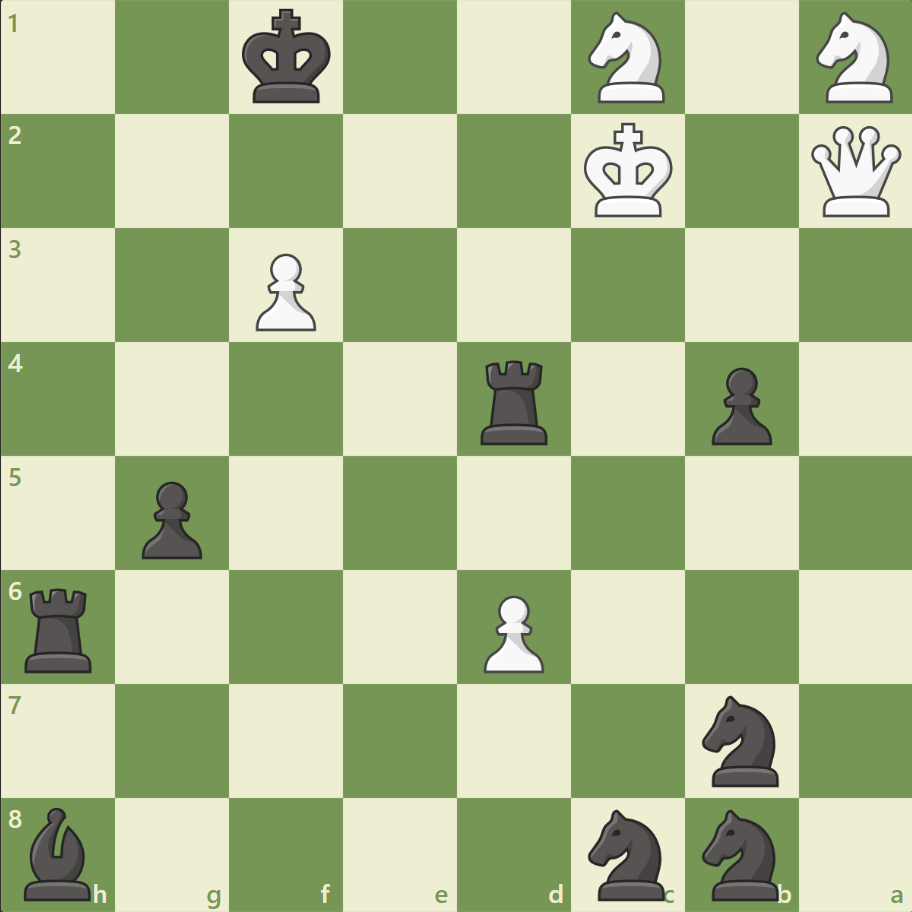K: (579, 117, 679, 225)
N: (806, 7, 903, 110), (579, 7, 676, 110)
P: (474, 586, 549, 677), (247, 246, 322, 337)
Q: (805, 122, 904, 222)
b: (17, 801, 101, 904)
k: (238, 4, 338, 112)
n: (692, 688, 789, 791), (692, 802, 789, 904), (579, 802, 676, 904)
p: (133, 473, 208, 564), (701, 359, 776, 450)
r: (19, 579, 102, 676), (473, 352, 556, 449)
